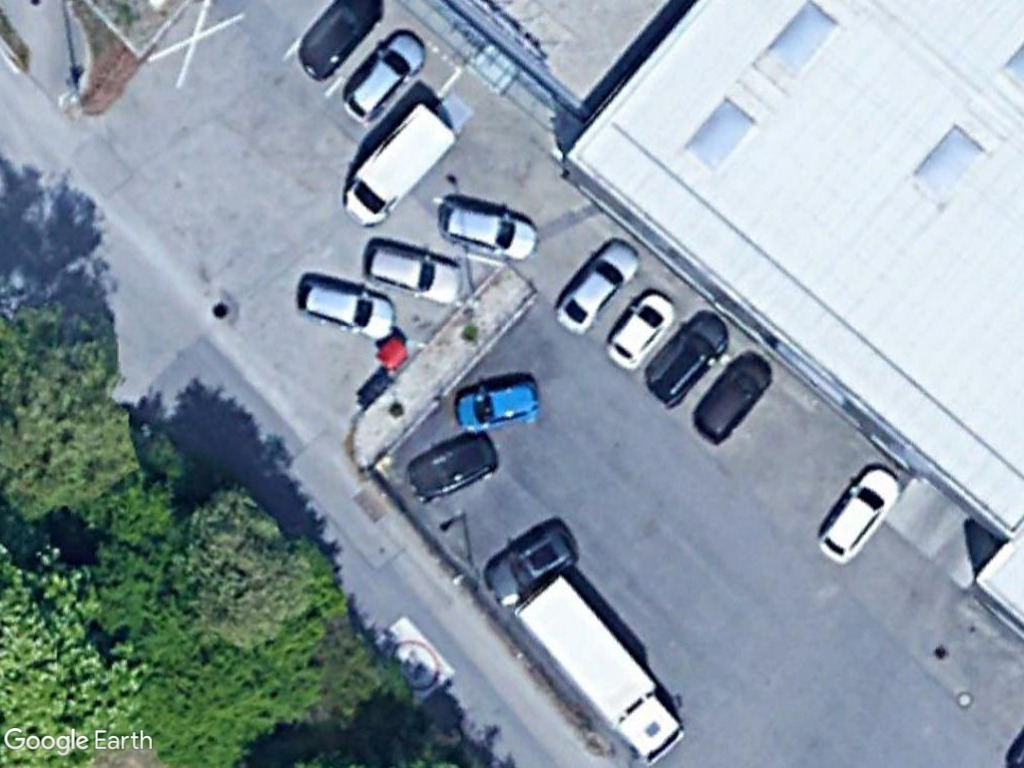car: (813, 466, 904, 568), (337, 27, 430, 126), (552, 240, 641, 336), (647, 311, 734, 408), (483, 524, 583, 608), (397, 426, 501, 504), (688, 351, 774, 445), (362, 239, 464, 306), (436, 195, 536, 262), (293, 279, 396, 338), (606, 290, 678, 371), (451, 377, 543, 432)
truck: (510, 568, 684, 763)
van: (340, 100, 457, 230)
